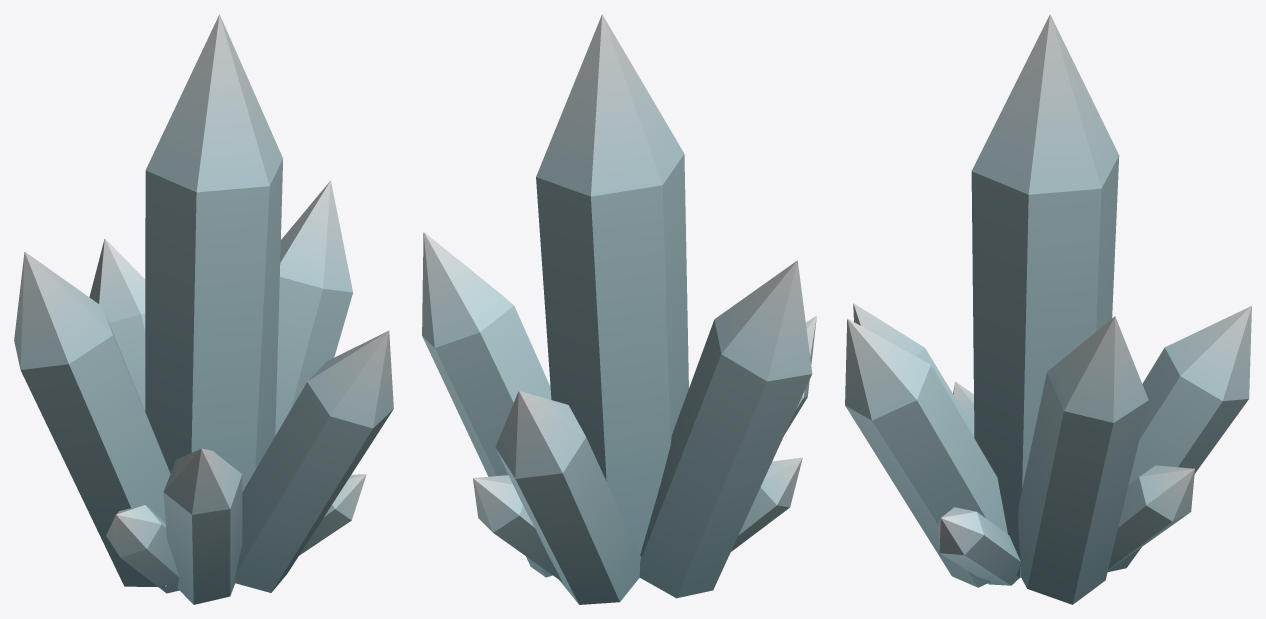
File: fx_ice_spike.glb
3 renders of one model, left to right at view 1: azimuth 30°, elevation 25°; view 2: azimuth 150°, elevation 25°; view 3: azimuth 270°, elevation 25°, orthographic. The views are drawn at different scales.
Visible parts, largest first — view 1: Goo; view 2: Goo; view 3: Goo.
Part boxes in pixels (x1,y1,x2,y2): Goo: [14, 14, 393, 604]; Goo: [422, 14, 816, 604]; Goo: [845, 14, 1251, 604].
Bounding box in the file's own units: 0.5023 × 0.7567 × 0.4958.
